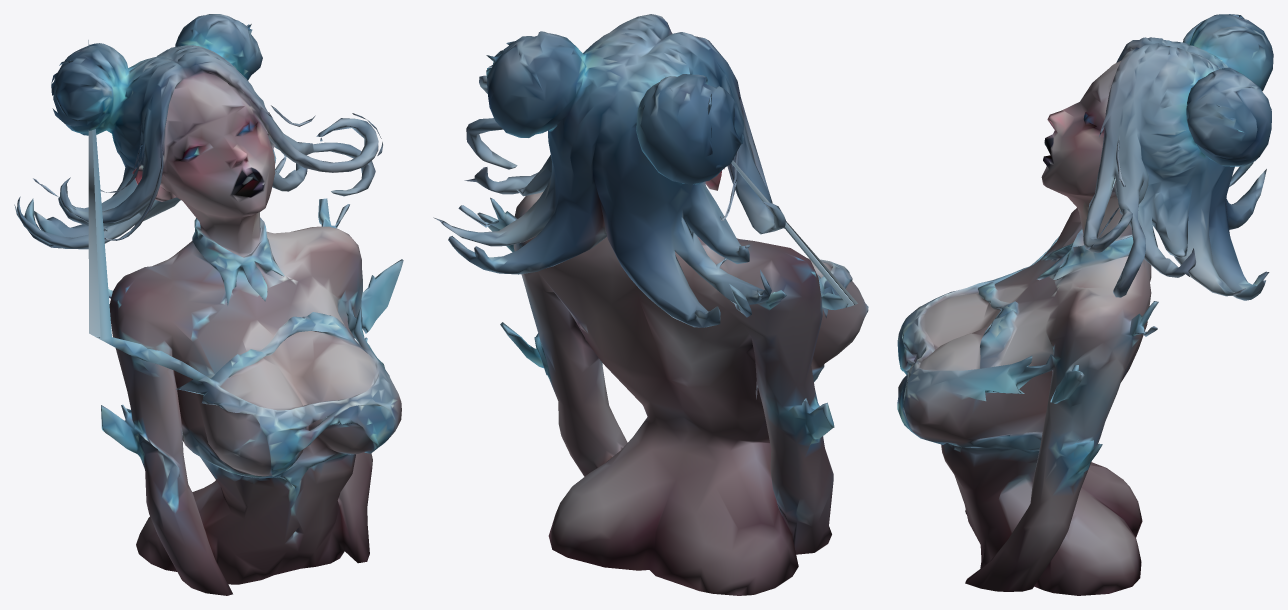
3 renders of one model, left to right at view 1: azimuth 30°, elevation 25°; view 2: azimuth 150°, elevation 25°; view 3: azimuth 270°, elevation 25°, orthographic. The views are drawn at different scales.
Parts seen in each view (by area): view 1: model; view 2: model; view 3: model.
Boxes of the visible parts, x1,y1,x2,y2 form: model: (14, 14, 403, 595); model: (433, 14, 868, 595); model: (897, 14, 1273, 595).
Size of the model in its own units: 1.3 by 1.84 by 1.27.
